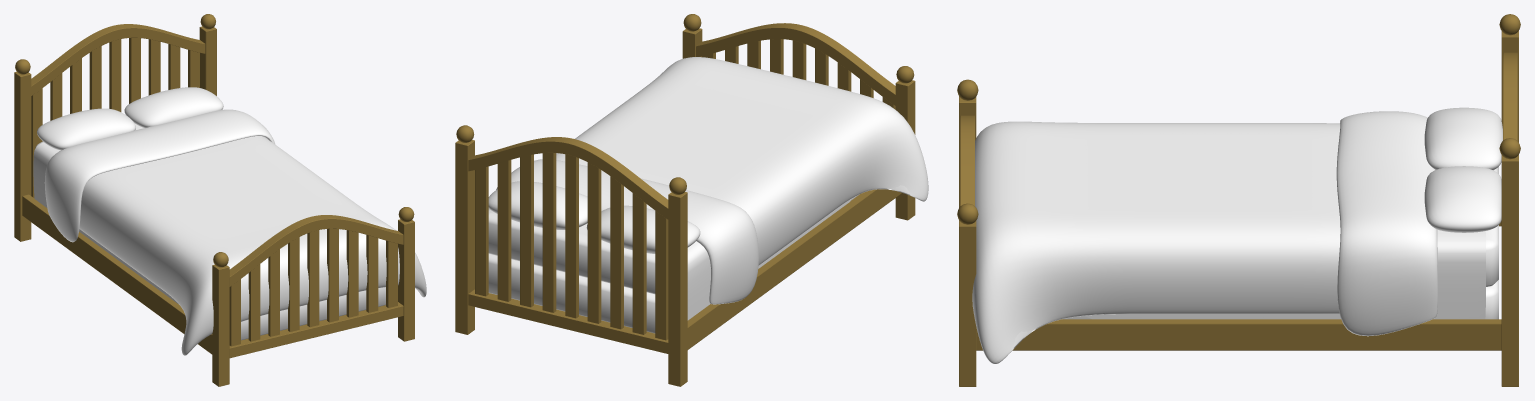
The model's file is bed_double.glb.
3 renders of one model, left to right at view 1: azimuth 30°, elevation 25°; view 2: azimuth 150°, elevation 25°; view 3: azimuth 270°, elevation 25°, orthographic. The views are drawn at different scales.
Parts seen in each view (by area): view 1: Plane, Cube.003_Cube.005, Cube.002_Cube.003, Cube, Cube.004_Cube.007, Cube.011_Cube.012, Cube.012_Cube.013, Cube.005_Cube.008, Plane.001, Cube.001_Cube.002; view 2: Plane, Cube.003_Cube.005, Cube.002_Cube.003, Cube, Cube.004_Cube.007, Cube.006_Cube.009, Cube.005_Cube.008, Plane.001, Cube.012_Cube.013, Cube.011_Cube.012, Cube.001_Cube.002; view 3: Plane, Cube.004_Cube.007, Cube, Plane.001, Cube.012_Cube.013, Cube.011_Cube.012, Cube.002_Cube.003, Cube.001_Cube.002, Cube.006_Cube.009, Cube.005_Cube.008.
Boxes of the visible parts, left/top/right/bottom form: Plane: left=44, top=109, right=426, bottom=355; Cube.003_Cube.005: left=31, top=38, right=397, bottom=346; Cube.002_Cube.003: left=31, top=24, right=403, bottom=358; Cube: left=14, top=26, right=414, bottom=386; Cube.004_Cube.007: left=22, top=194, right=212, bottom=354; Cube.011_Cube.012: left=37, top=108, right=135, bottom=150; Cube.012_Cube.013: left=124, top=87, right=223, bottom=127; Cube.005_Cube.008: left=241, top=287, right=385, bottom=340; Plane.001: left=33, top=124, right=178, bottom=303; Cube.001_Cube.002: left=15, top=14, right=414, bottom=267; Plane: left=496, top=57, right=928, bottom=304; Cube.003_Cube.005: left=475, top=39, right=895, bottom=340; Cube.002_Cube.003: left=468, top=23, right=895, bottom=353; Cube: left=455, top=28, right=915, bottom=386; Cube.004_Cube.007: left=687, top=189, right=901, bottom=349; Cube.006_Cube.009: left=488, top=213, right=655, bottom=294; Cube.005_Cube.008: left=488, top=195, right=858, bottom=333; Plane.001: left=488, top=198, right=852, bottom=320; Cube.012_Cube.013: left=488, top=181, right=587, bottom=229; Cube.011_Cube.012: left=586, top=205, right=700, bottom=253; Cube.001_Cube.002: left=456, top=14, right=914, bottom=194; Plane: left=972, top=111, right=1437, bottom=363; Cube.004_Cube.007: left=976, top=221, right=1501, bottom=350; Cube: left=959, top=31, right=1518, bottom=386; Plane.001: left=1084, top=229, right=1485, bottom=319; Cube.012_Cube.013: left=1424, top=166, right=1501, bottom=232; Cube.011_Cube.012: left=1424, top=107, right=1502, bottom=170; Cube.002_Cube.003: left=960, top=52, right=1517, bottom=205; Cube.001_Cube.002: left=957, top=14, right=1520, bottom=224; Cube.006_Cube.009: left=1486, top=166, right=1498, bottom=286; Cube.005_Cube.008: left=1062, top=280, right=1498, bottom=319.
Size of the model in its own units: 1.45 by 1.08 by 2.14.
